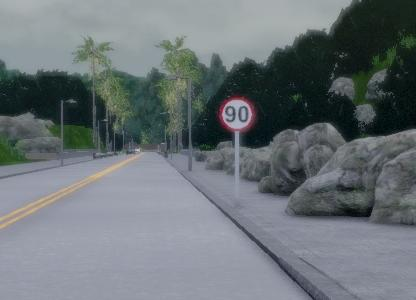Speed_90: (217, 93, 256, 135)
